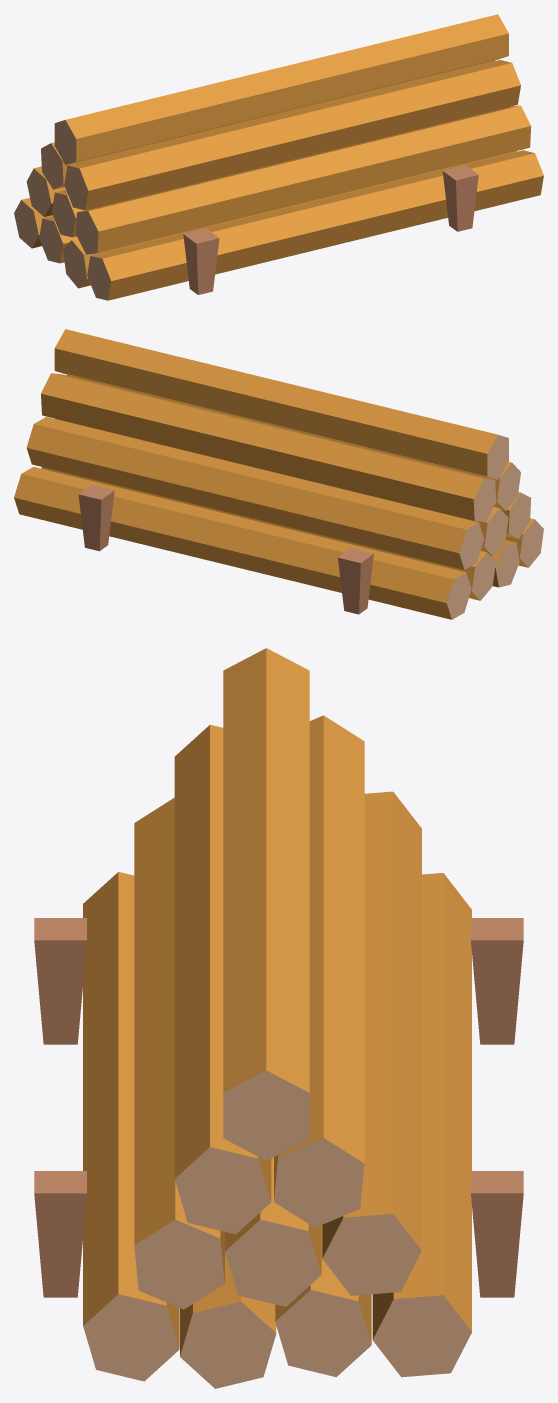
The model's file is firewood01.fbx.
3 views of the same model, one above another, from view 1: azimuth 30°, elevation 25°; view 2: azimuth 150°, elevation 25°; view 3: azimuth 270°, elevation 25° (orthographic). The views are drawn at different scales.
Visible parts, largest first — view 1: Firewood01; view 2: Firewood01; view 3: Firewood01.
Part boxes in pixels (box(x1,y1,x2,y2)): Firewood01: box(14, 14, 543, 300); Firewood01: box(14, 329, 543, 619); Firewood01: box(34, 648, 523, 1388).
Size of the model in its own units: 102 by 49.77 by 35.74.
